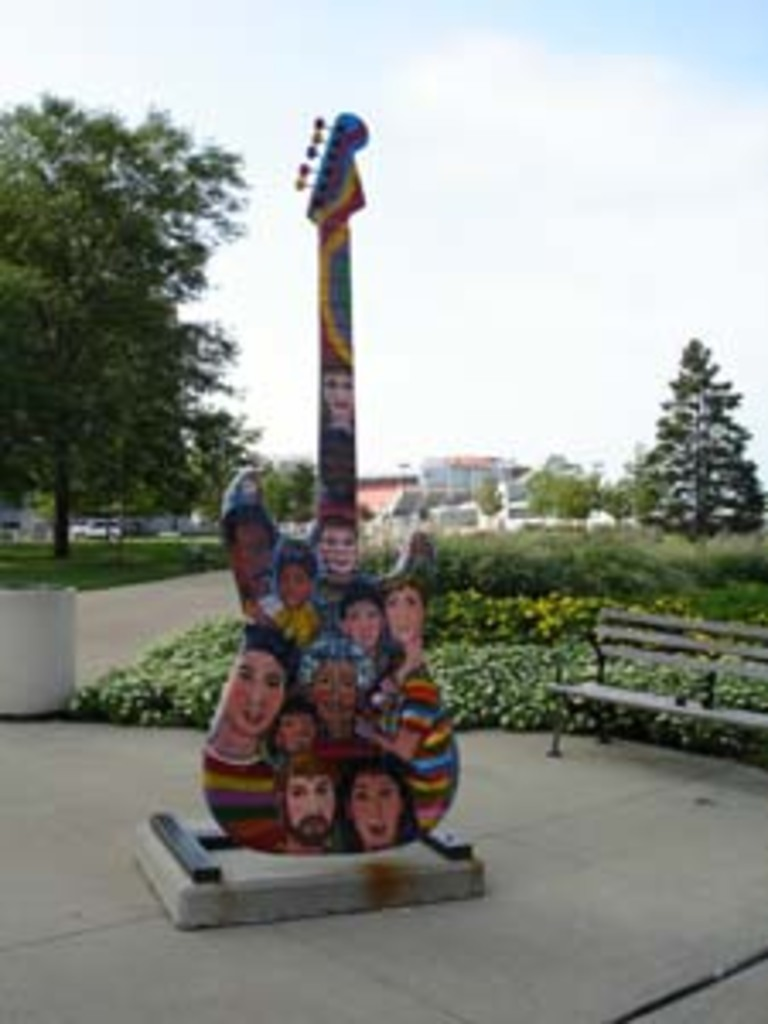Person: (198, 355, 460, 857)
